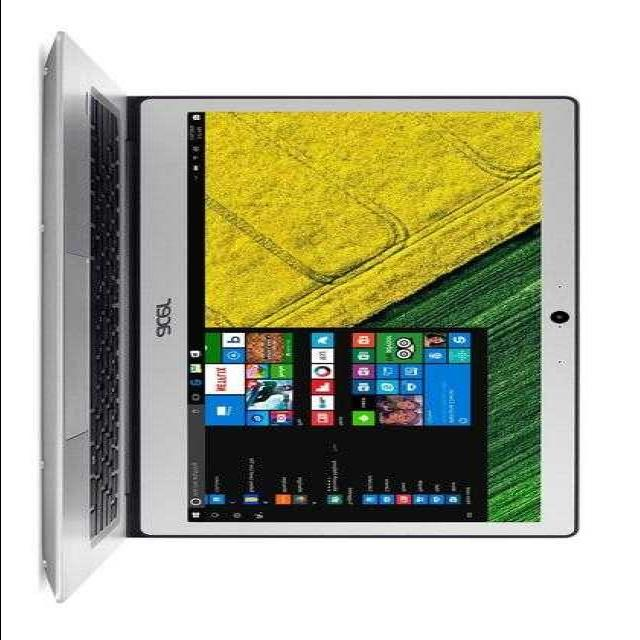laptop: (17, 94, 571, 542)
